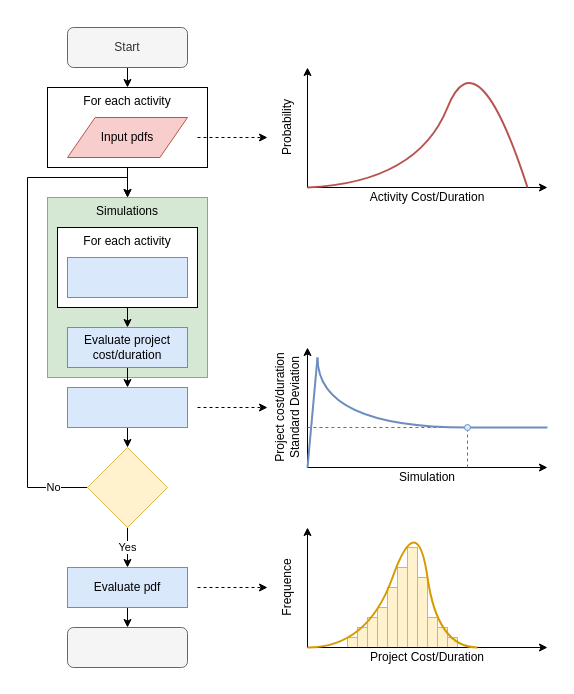
This 574x694 diagram has some shape labels left out. The centre of each missing label's shape, as x and y in pixels:
Converged?: point 127,487
End: point 127,647
Evaluate standard deviation: point 127,407
Randomize activity cost/duration: point 127,277
